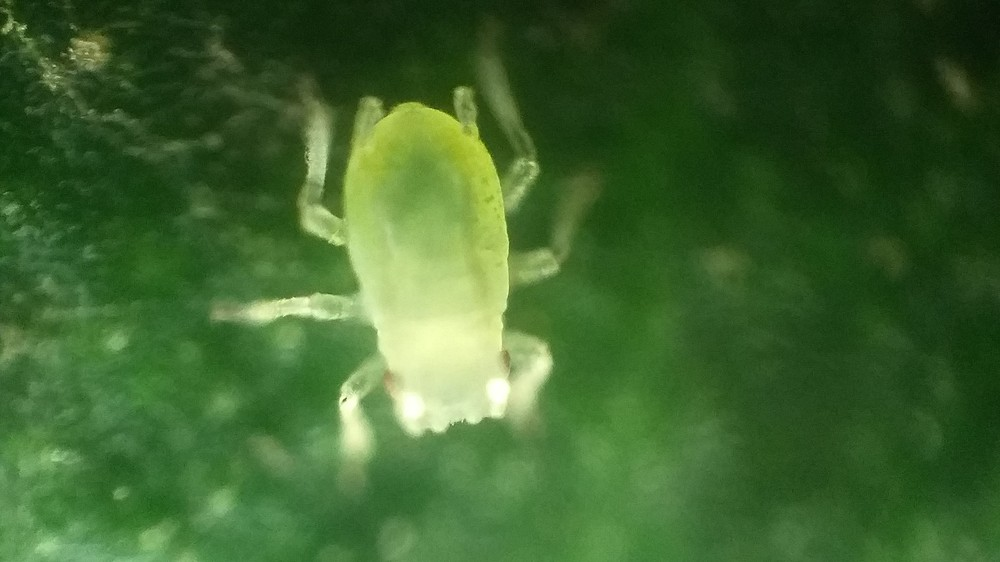Pulgon: (230, 59, 607, 476)
